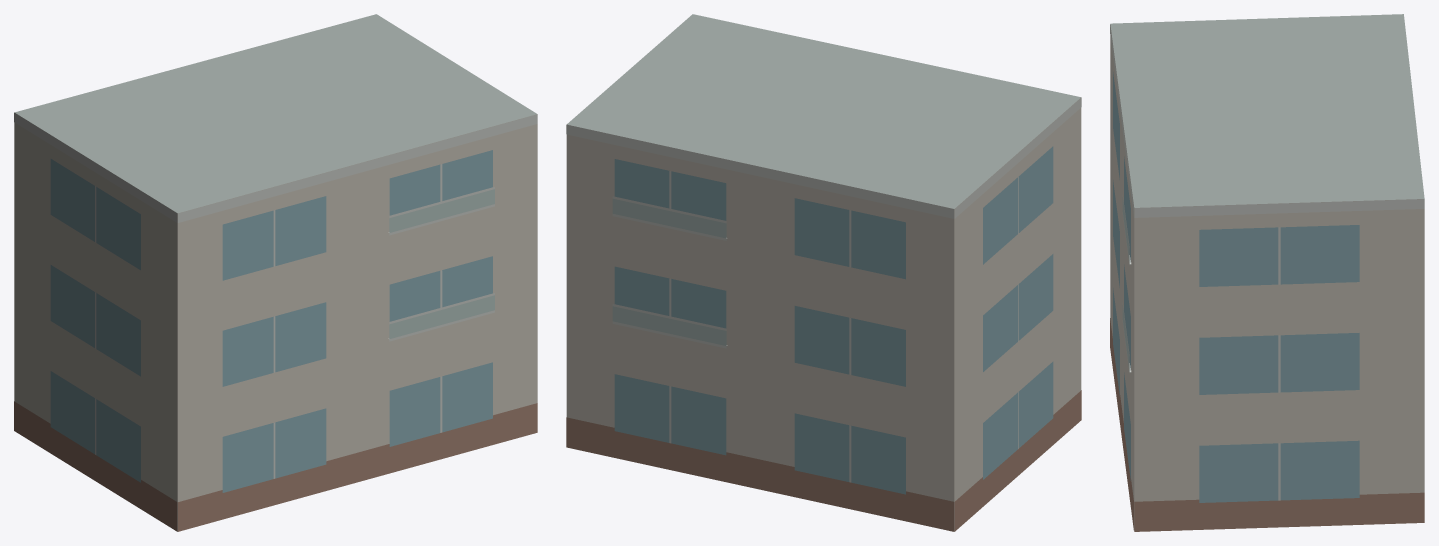
The model's file is survey-upis-32661830.glb.
3 renders of one model, left to right at view 1: azimuth 30°, elevation 25°; view 2: azimuth 150°, elevation 25°; view 3: azimuth 270°, elevation 25°, orthographic.
Parts seen in each view (by area): view 1: survey-upis-32661830.tmp; view 2: survey-upis-32661830.tmp; view 3: survey-upis-32661830.tmp.
Boxes of the visible parts, x1,y1,x2,y2 form: survey-upis-32661830.tmp: (14, 14, 537, 531); survey-upis-32661830.tmp: (566, 14, 1081, 531); survey-upis-32661830.tmp: (1110, 14, 1424, 531).
Bounding box in the file's own units: 10.15 × 7.9 × 6.96.
